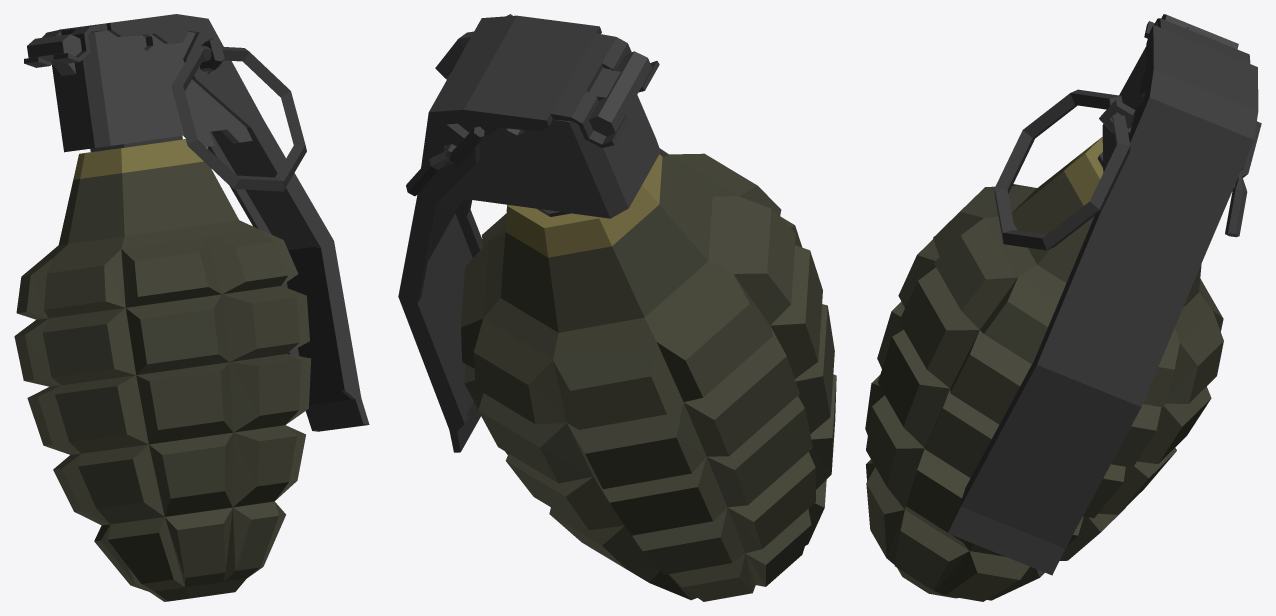
Rendered from Grenade.fbx.
3 renders of one model, left to right at view 1: azimuth 30°, elevation 25°; view 2: azimuth 150°, elevation 25°; view 3: azimuth 270°, elevation 25°, orthographic. The views are drawn at different scales.
Visible parts, largest first — view 1: Grenade; view 2: Grenade; view 3: Grenade.
Boxes of the visible parts, <box> form: Grenade: <box>14,14,369,601</box>; Grenade: <box>398,14,836,601</box>; Grenade: <box>865,14,1261,601</box>.
Size of the model in its own units: 30.04 by 50.62 by 31.92.
